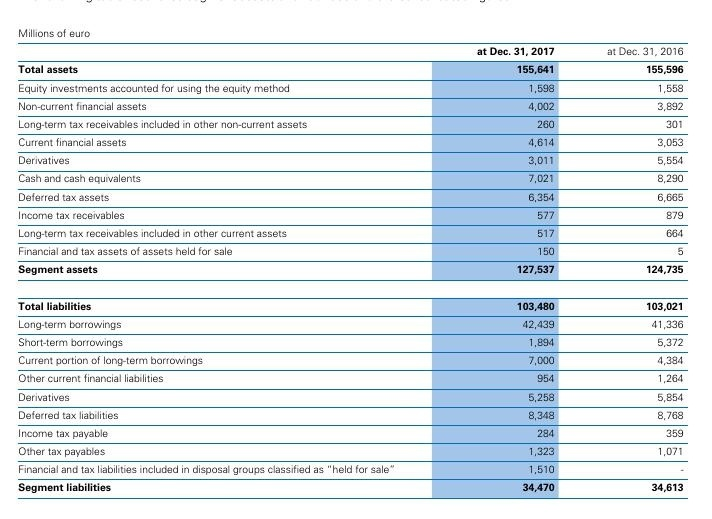table: (0, 0, 712, 519)
